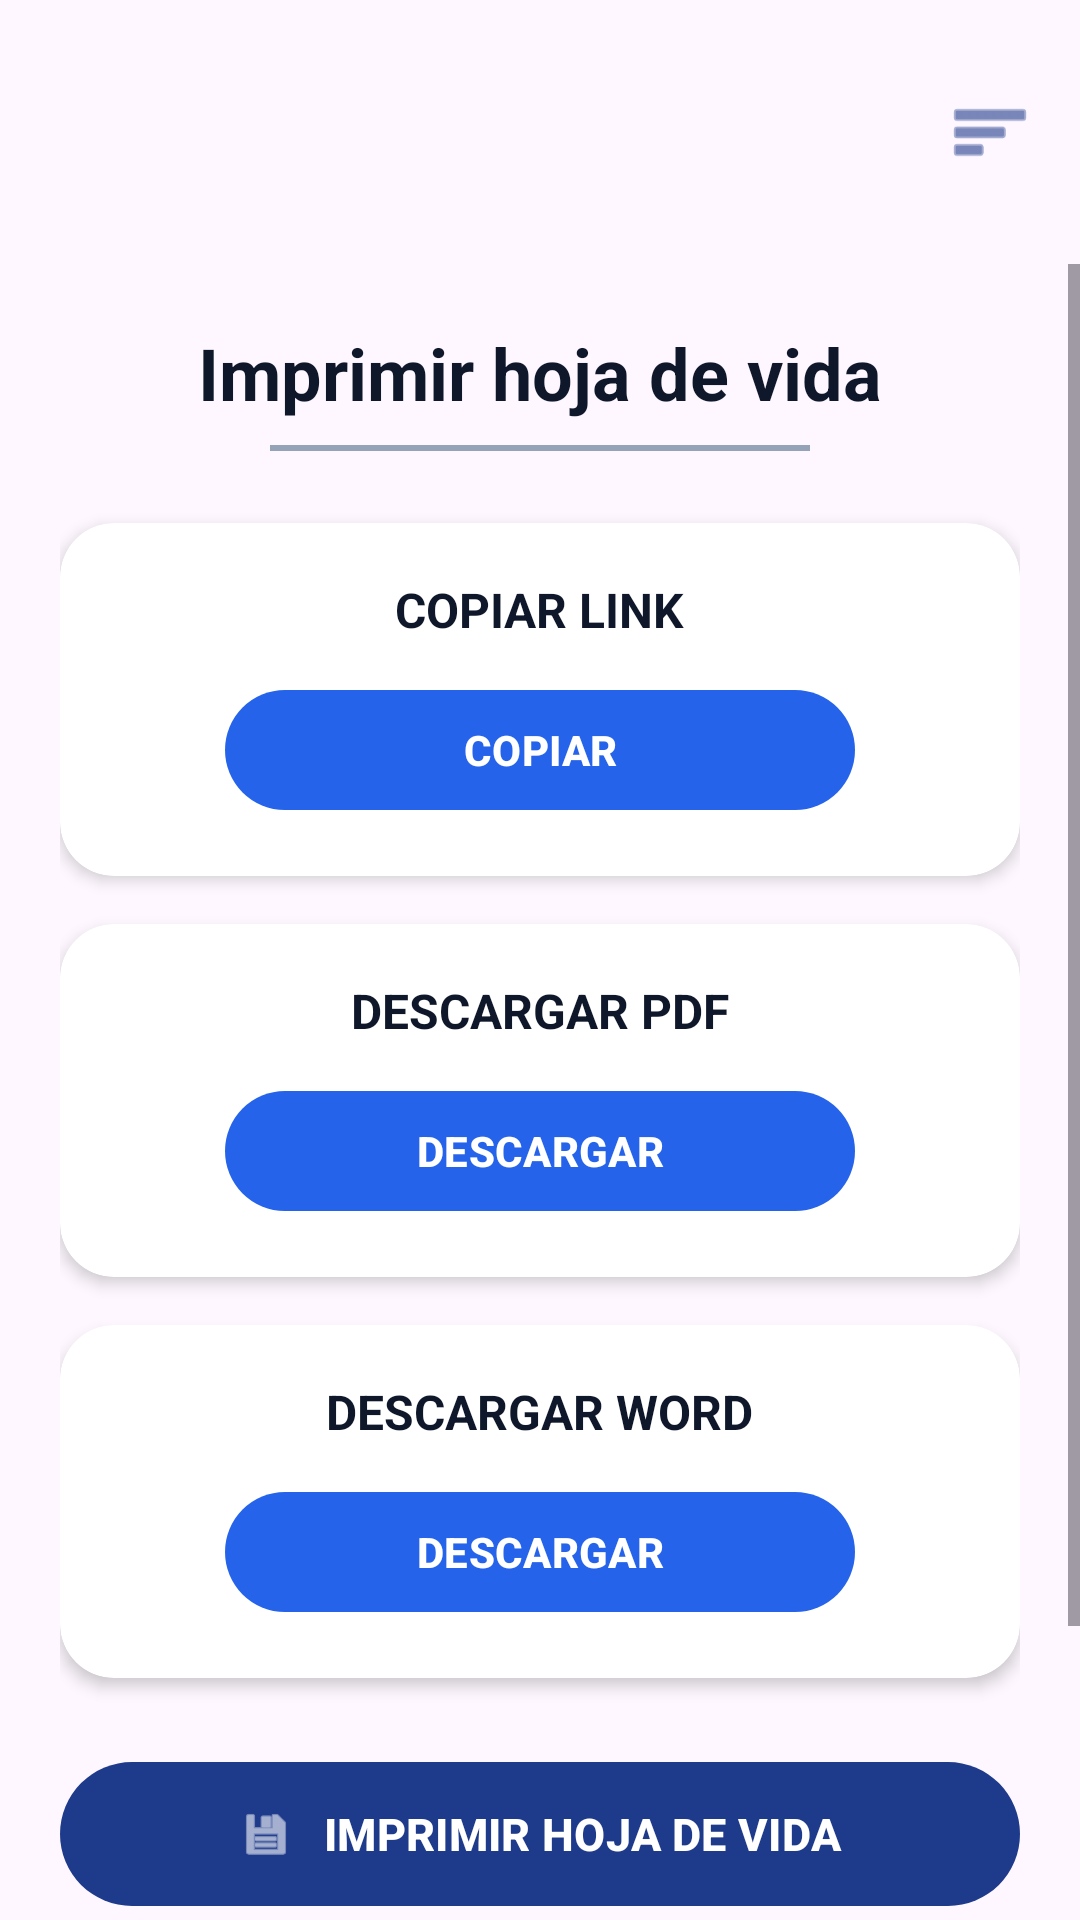

Screen size 1080px×1920px. Icon name, then its box in pixels as (x1, y1, x2, y2):
Menú: (954, 109, 1026, 156)
